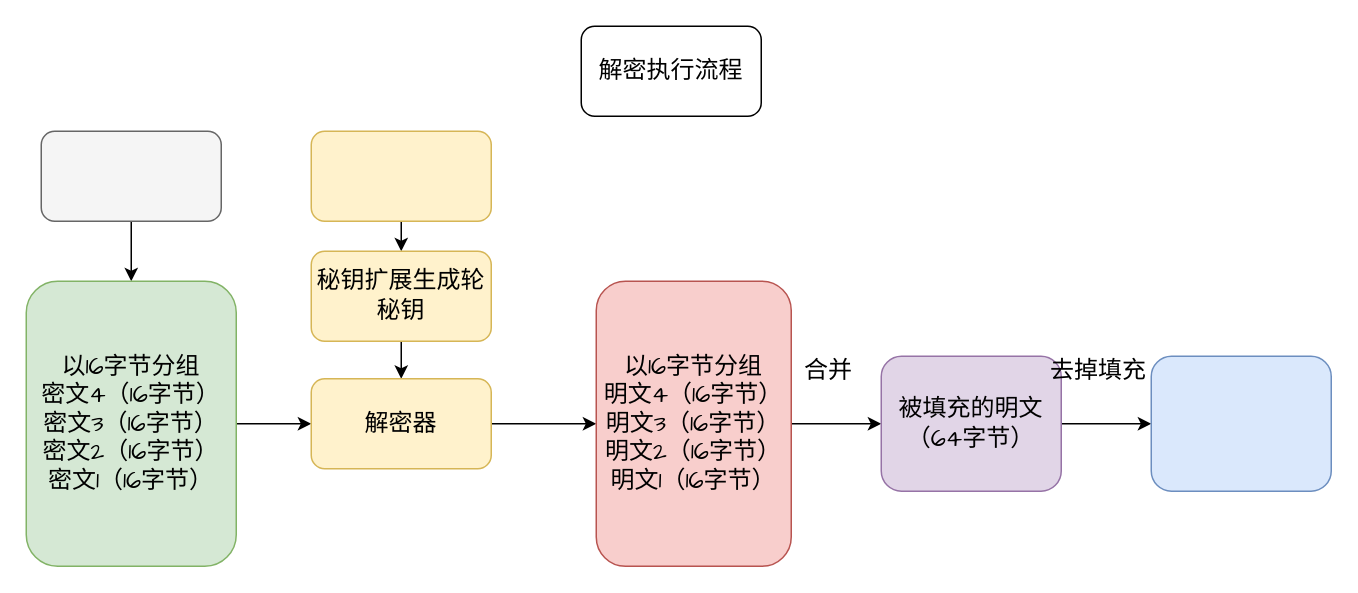
This 1358x593 diagram has some shape labels left out. The shapes that lost their labels are listed below. From the top down, each one's box as (x1, y1, x2, y2) in pixels, then its label:
(40, 130, 221, 221): 密文(64字节)
(310, 130, 491, 221): 输入16字节/ 24字节/ 32字节的秘钥
(1150, 355, 1331, 491): 原始明文
